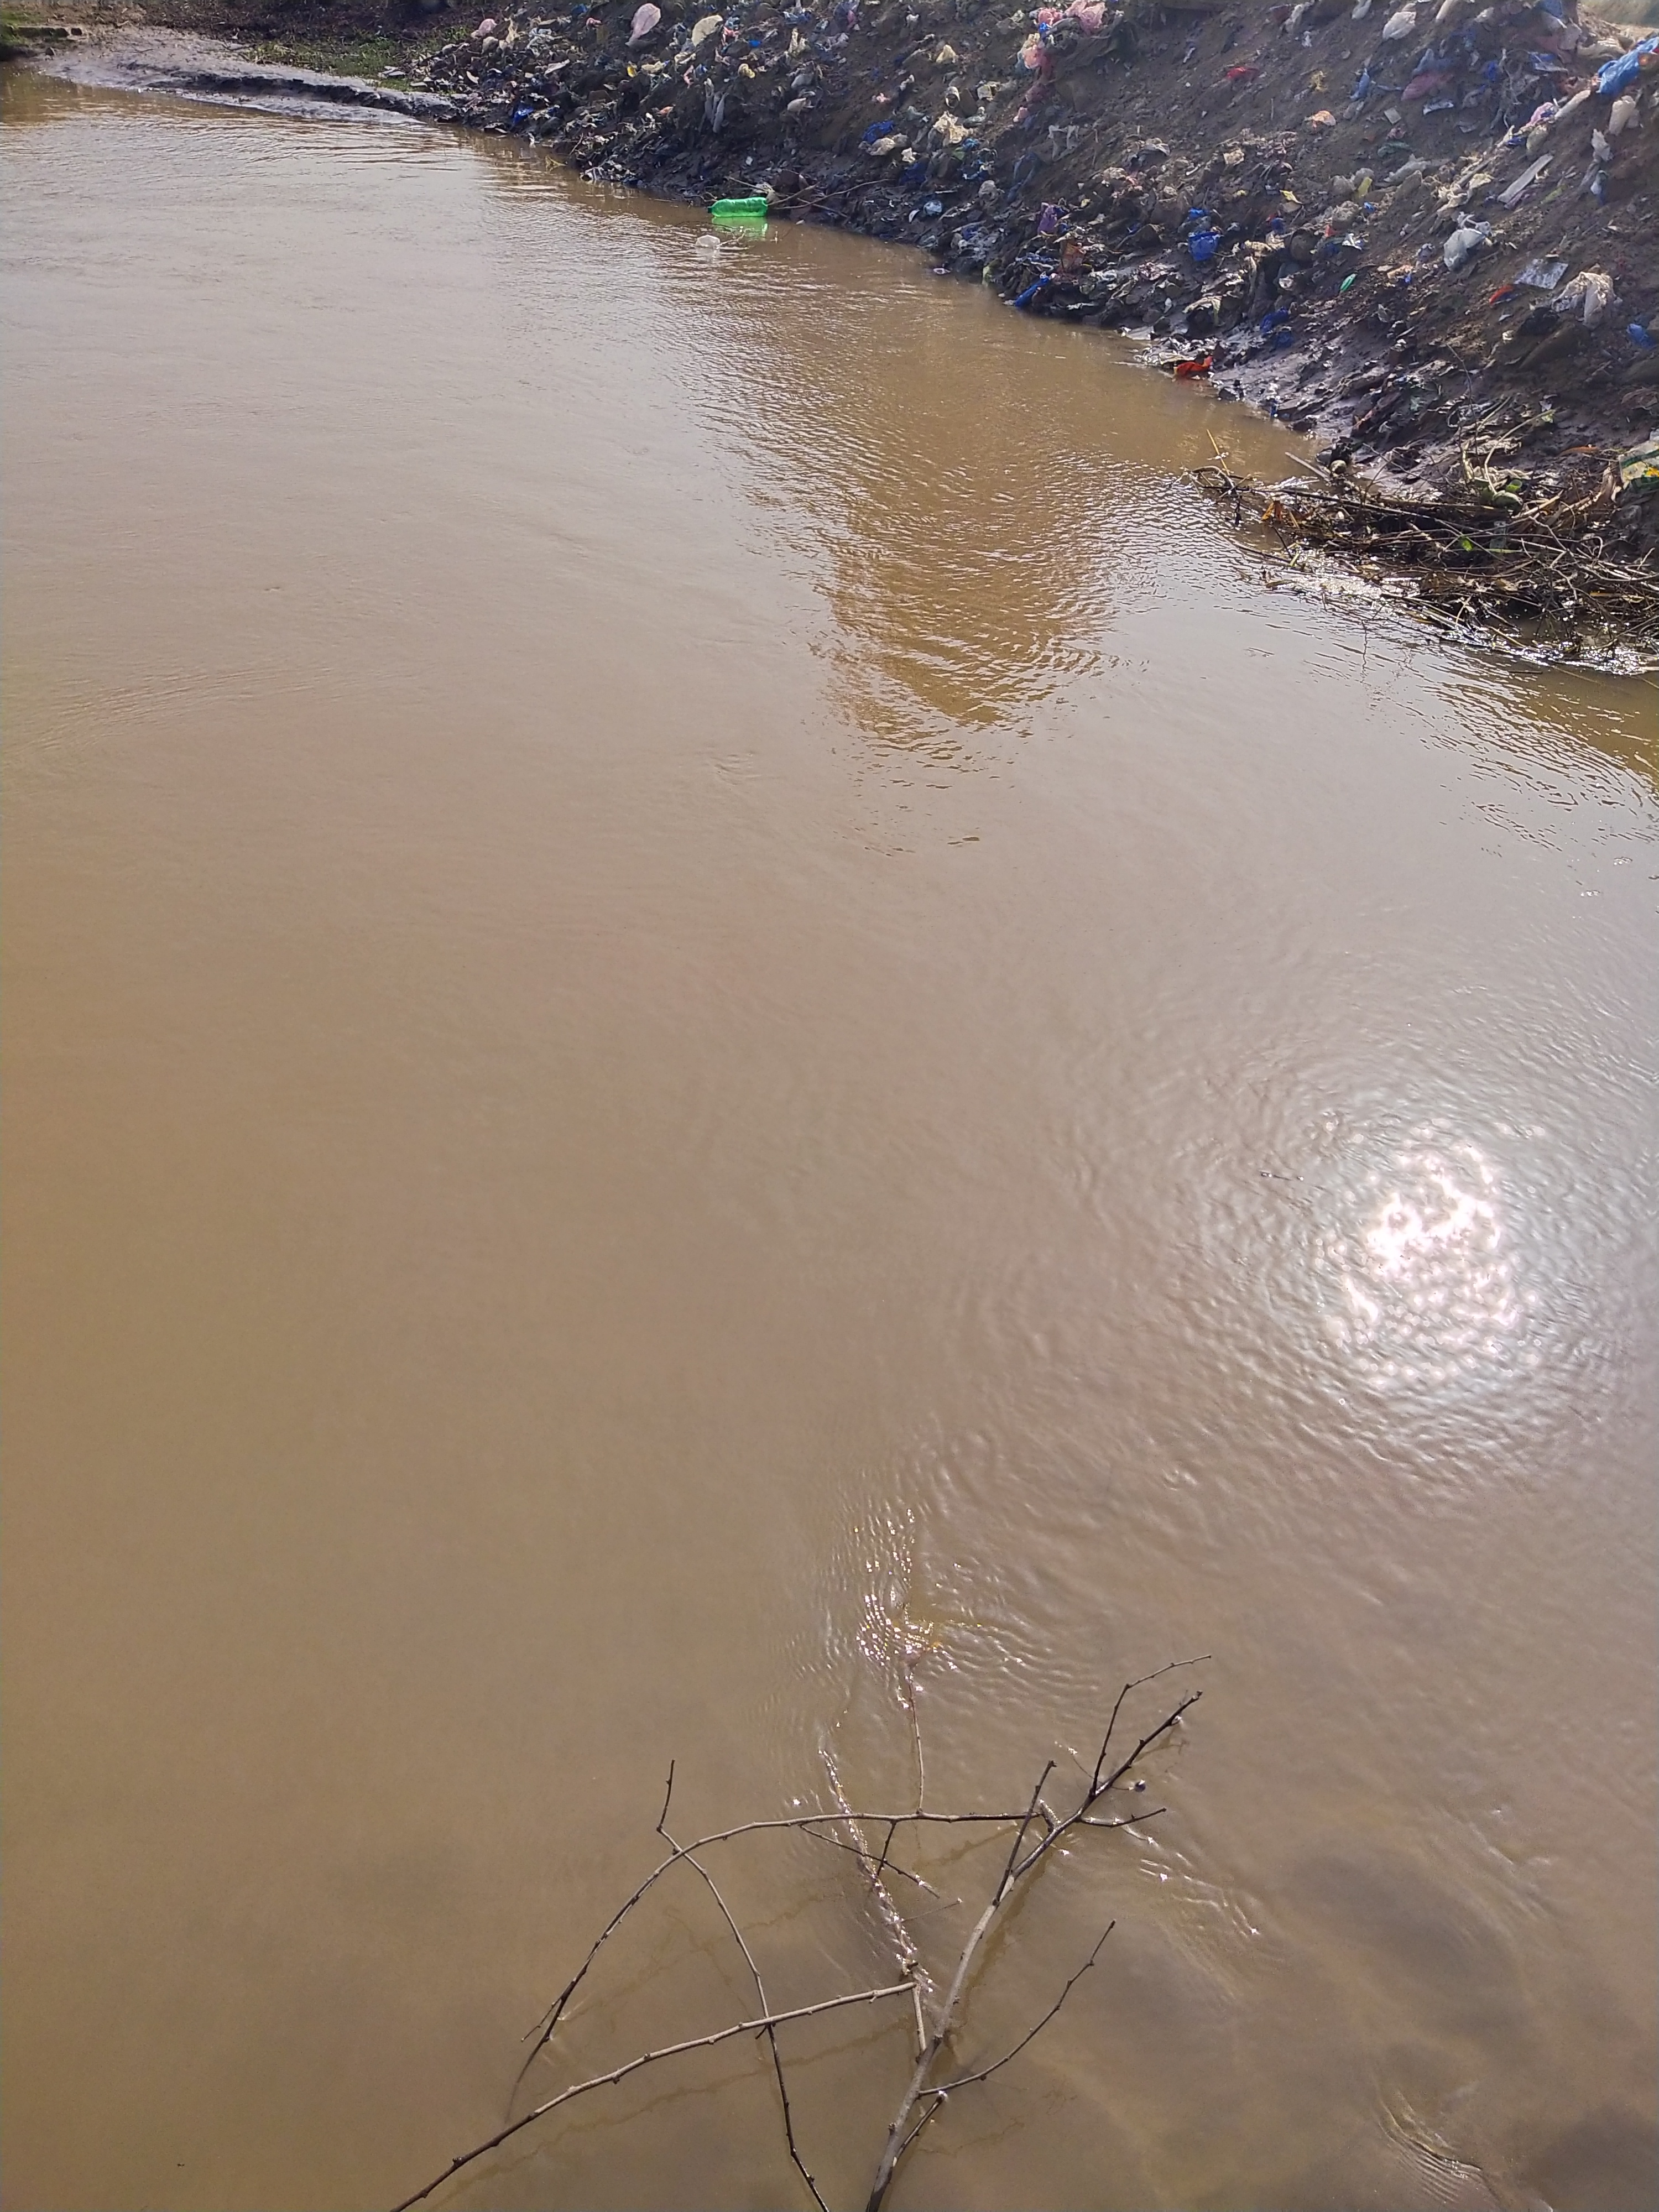Plastic Bottle: (708, 197, 767, 218)
